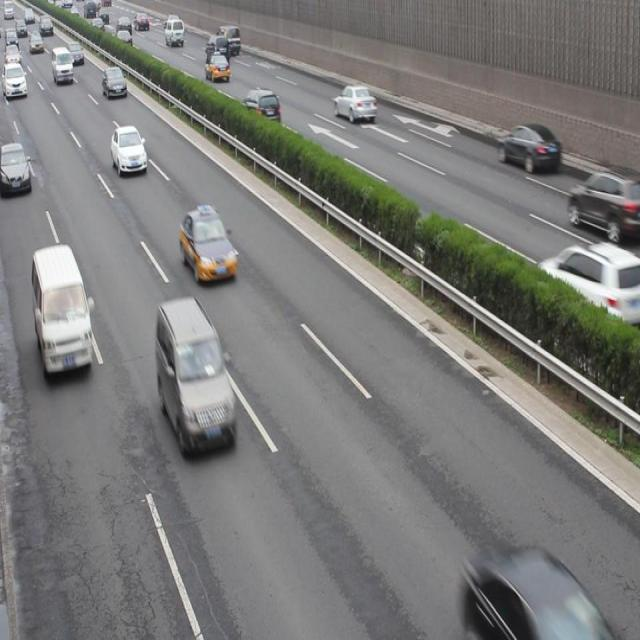car: (468, 550, 618, 640), (540, 245, 640, 322), (567, 170, 640, 240), (180, 203, 238, 283), (497, 124, 560, 176), (333, 82, 376, 124), (112, 122, 146, 174), (241, 88, 281, 128), (1, 141, 32, 192), (1, 63, 27, 98), (104, 66, 128, 98), (205, 53, 229, 80), (68, 41, 84, 64), (115, 31, 133, 46)
truck: (155, 301, 235, 454), (30, 244, 95, 378), (52, 47, 74, 83), (206, 34, 229, 66), (218, 24, 241, 54), (164, 17, 184, 48)
